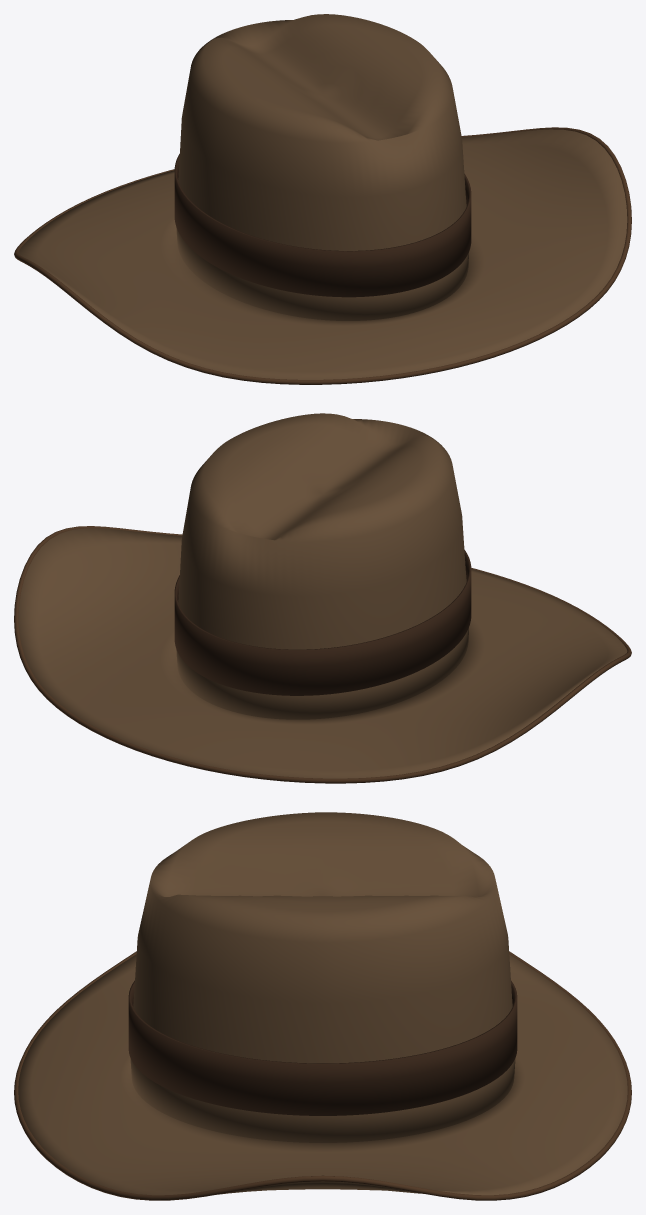
Rendered from hero-hat-reference.glb.
3 views of the same model, one above another, from view 1: azimuth 30°, elevation 25°; view 2: azimuth 150°, elevation 25°; view 3: azimuth 270°, elevation 25° (orthographic). The views are drawn at different scales.
Visible parts, largest first — view 1: Felt brim with rolled sides.001, Cattleman crown with center crease.001, Separate leather crown band.001, Bound and rolled brim edge.001; view 2: Felt brim with rolled sides.001, Cattleman crown with center crease.001, Separate leather crown band.001, Bound and rolled brim edge.001; view 3: Cattleman crown with center crease.001, Felt brim with rolled sides.001, Separate leather crown band.001, Bound and rolled brim edge.001.
Boxes of the visible parts, x1=… form: Felt brim with rolled sides.001: x1=18, y1=129, x2=627, y2=379; Cattleman crown with center crease.001: x1=176, y1=14, x2=468, y2=320; Separate leather crown band.001: x1=174, y1=153, x2=471, y2=297; Bound and rolled brim edge.001: x1=14, y1=127, x2=631, y2=384; Felt brim with rolled sides.001: x1=18, y1=528, x2=627, y2=778; Cattleman crown with center crease.001: x1=176, y1=413, x2=468, y2=719; Separate leather crown band.001: x1=174, y1=549, x2=471, y2=695; Bound and rolled brim edge.001: x1=14, y1=526, x2=631, y2=783; Cattleman crown with center crease.001: x1=130, y1=812, x2=515, y2=1142; Felt brim with rolled sides.001: x1=18, y1=954, x2=627, y2=1195; Separate leather crown band.001: x1=128, y1=980, x2=517, y2=1115; Bound and rolled brim edge.001: x1=14, y1=951, x2=631, y2=1200.
Size of the model in its own units: 0.451 by 0.1564 by 0.3827.
